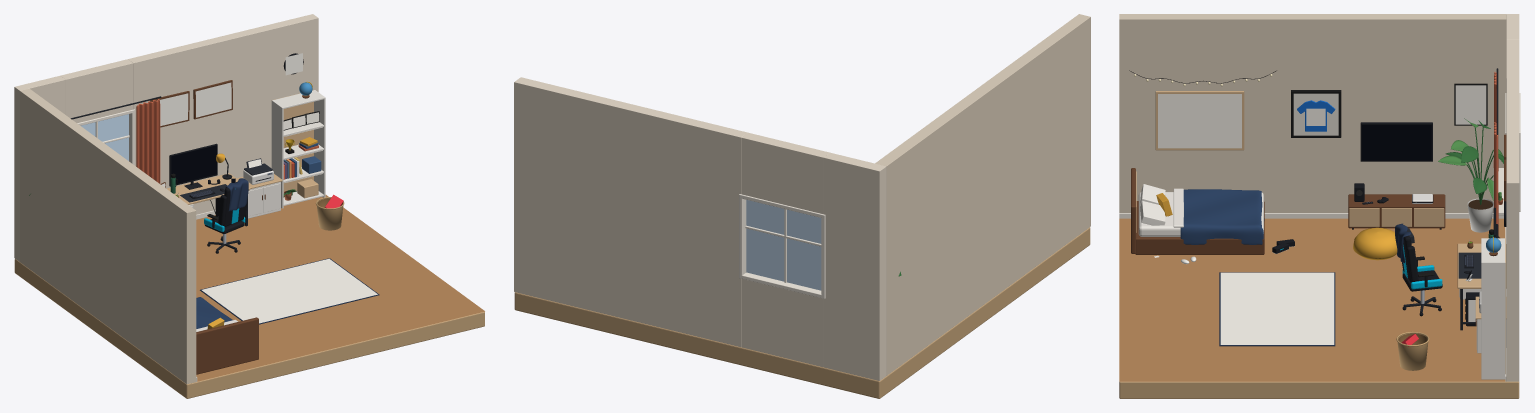
The model's file is room.glb.
The picture shows the model from 3 angles, left to right: view 1: azimuth 30°, elevation 25°; view 2: azimuth 150°, elevation 25°; view 3: azimuth 270°, elevation 25°; orthographic projection. The views are drawn at different scales.
Parts seen in each view (by area): view 1: WallLeft, Floor, WallBack_R, Slab, IMG_Rug, WallBack_T, Bed_Headboard, WallBack_L, Curtain_R, SCREEN_Monitor, GLASS_Window, Shelf_SideL (+11 smaller); view 2: WallBack_R, WallLeft, WallBack_L, Slab, WallBack_B, WallBack_T, GLASS_Window, WinFrame_B, WinFrame_R; view 3: WallLeft, Floor, IMG_Rug, Slab, IMG_Corkboard, WallBack_R, Bed_Blanket, Shelf_SideR, SCREEN_TV, Bed_Frame, TVStand_Body, IMG_Poster (+25 smaller).
Boxes of the visible parts, x1,y1,x2,y2 form: WallLeft: (20,88,196,384); Floor: (196,195,484,381); WallBack_R: (128,14,318,214); Slab: (14,259,484,398); IMG_Rug: (202,258,377,323); WallBack_T: (60,59,132,123); Bed_Headboard: (196,317,258,374); WallBack_L: (14,76,65,261); Curtain_R: (136,99,160,183); SCREEN_Monitor: (171,145,216,183); GLASS_Window: (81,114,128,160); Shelf_SideL: (271,100,283,208); WallBack_R: (514,77,747,346); WallLeft: (875,14,1090,375); WallBack_L: (823,152,886,380); Slab: (514,227,1090,398); WallBack_B: (741,279,823,367); WallBack_T: (741,132,829,214); GLASS_Window: (746,200,821,290); WinFrame_B: (739,272,825,298); WinFrame_R: (739,197,746,276); WallLeft: (1119,14,1506,212); Floor: (1119,218,1505,381); IMG_Rug: (1220,272,1334,344); Slab: (1119,381,1519,398); IMG_Corkboard: (1158,94,1241,148); WallBack_R: (1506,78,1519,381); Bed_Blanket: (1180,189,1264,244); Shelf_SideR: (1481,262,1505,379); SCREEN_TV: (1362,125,1431,160); Bed_Frame: (1135,201,1264,254); TVStand_Body: (1348,194,1445,228); IMG_Poster: (1455,85,1486,124).
Size of the model in its own units: 6.23 by 3.7 by 6.22.
